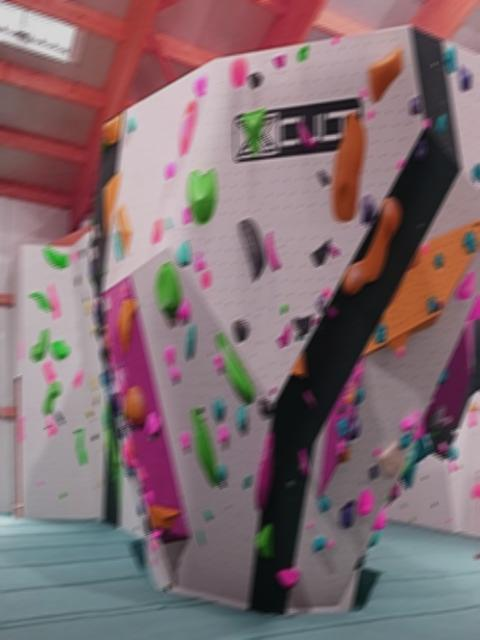ledge: (187, 168, 217, 224)
